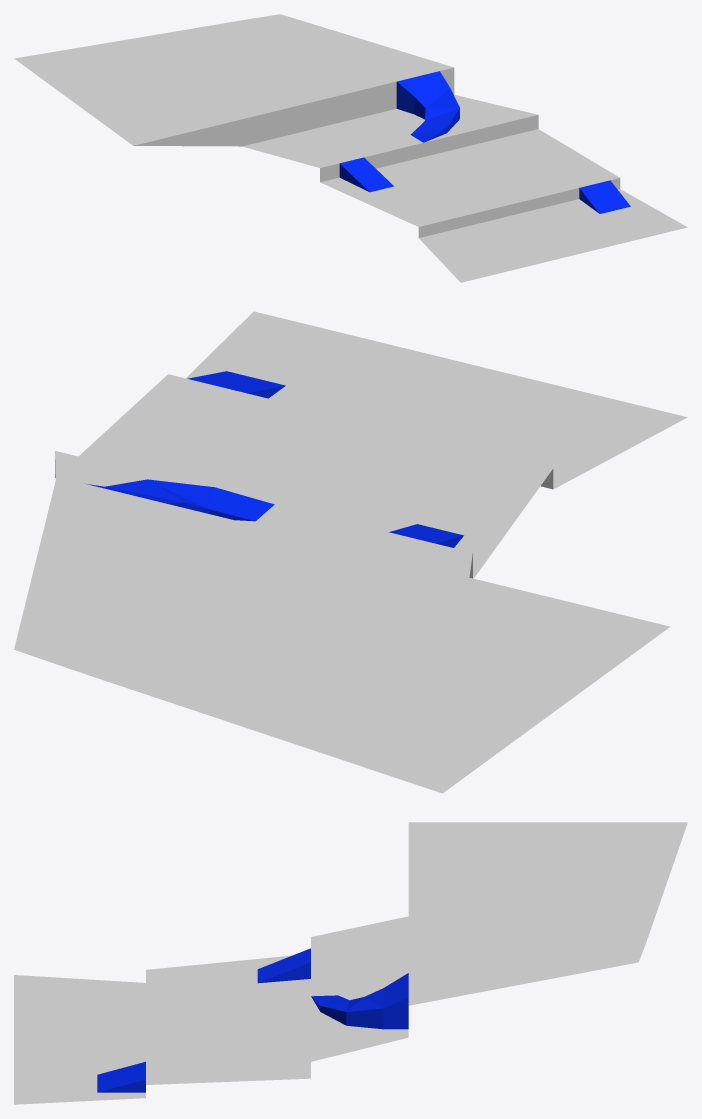
File: escenarioD.FBX
3 renders of one model, top to bottom at view 1: azimuth 30°, elevation 25°; view 2: azimuth 150°, elevation 25°; view 3: azimuth 270°, elevation 25°, orthographic. The views are drawn at different scales.
Parts seen in each view (by area): view 1: escenario; view 2: escenario; view 3: escenario.
Part boxes in pixels (bbox=[...]): escenario: bbox=[14, 14, 687, 282]; escenario: bbox=[14, 311, 687, 793]; escenario: bbox=[14, 822, 687, 1104].
Size of the model in its own units: 4524 by 588 by 5834.
